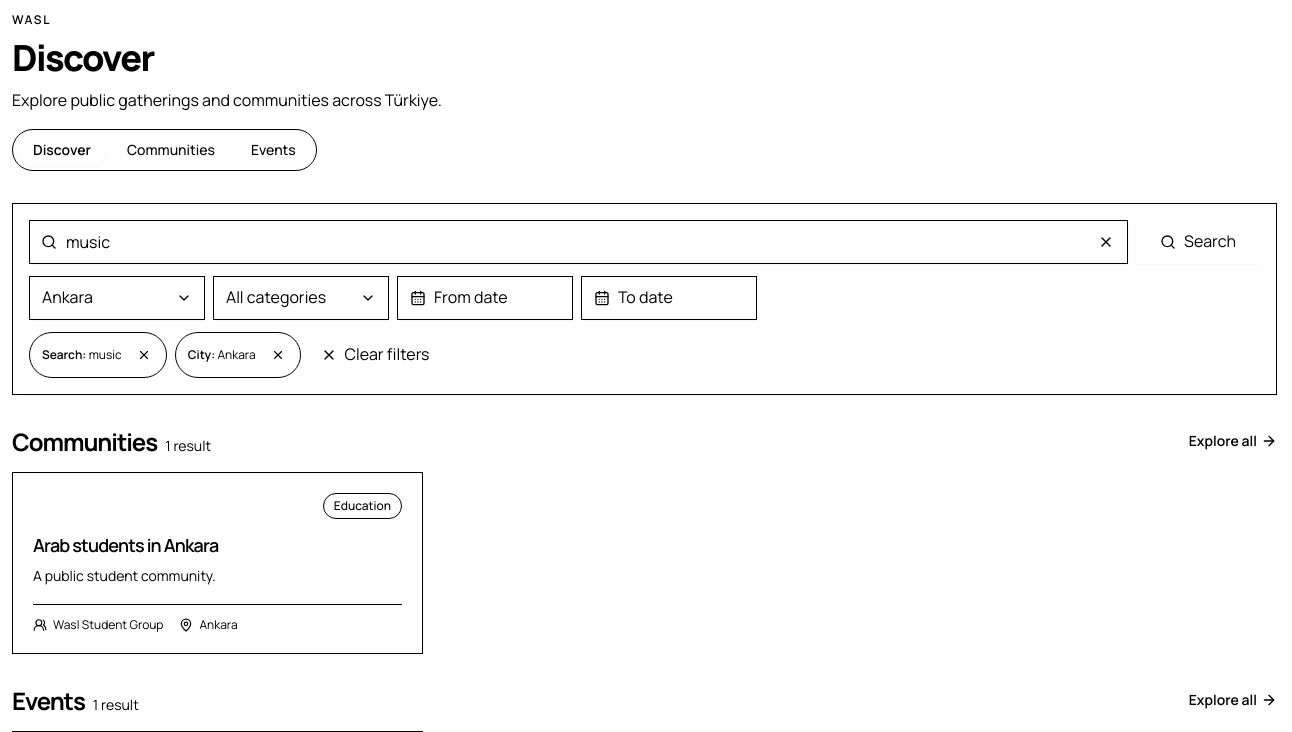
DiscoveryPage › exposes active filters as removable chips and clears them
Expected: the button named "Remove filter City: Ankara" is shown, [260,337,296,373]
Click the button named "Remove filter Search: music": x=144, y=355 [126,337,162,373]
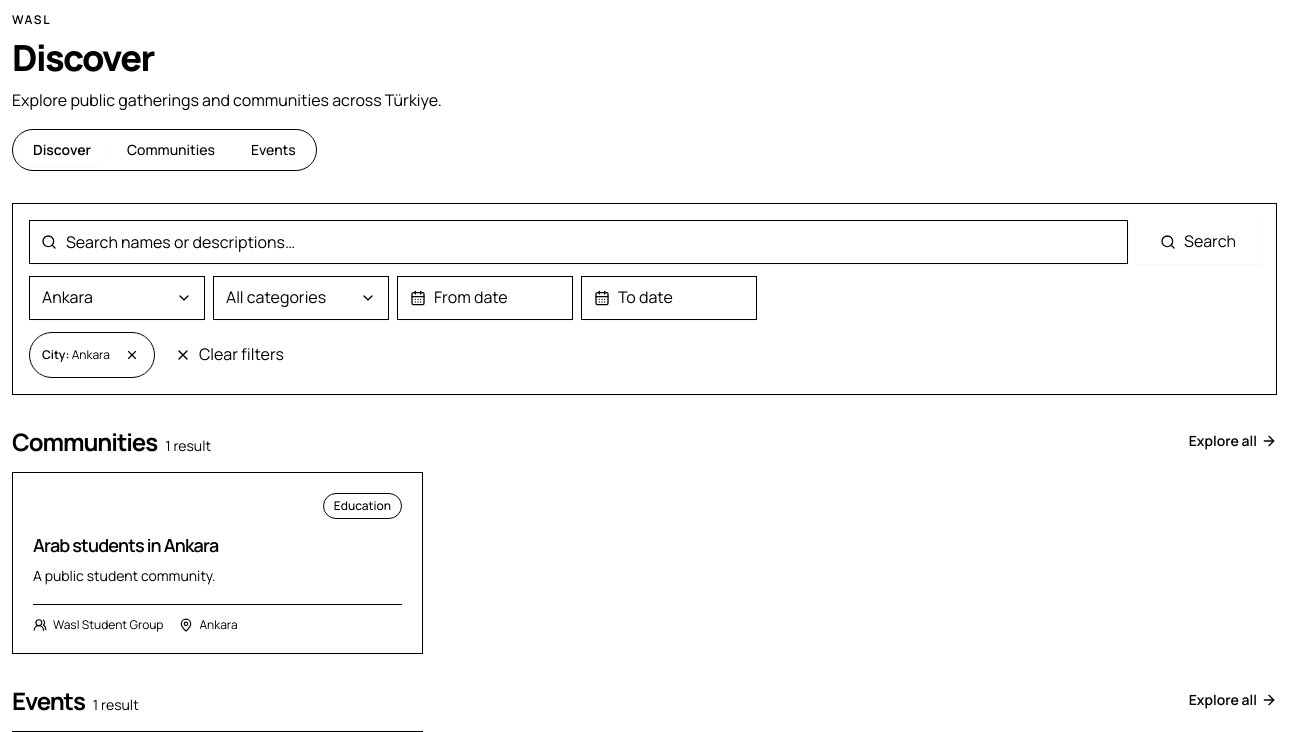
Result: the search field labelled "Search" is empty at [29,220,1128,264]
Click the button "Clear filters": x=229, y=355 [163,333,296,377]
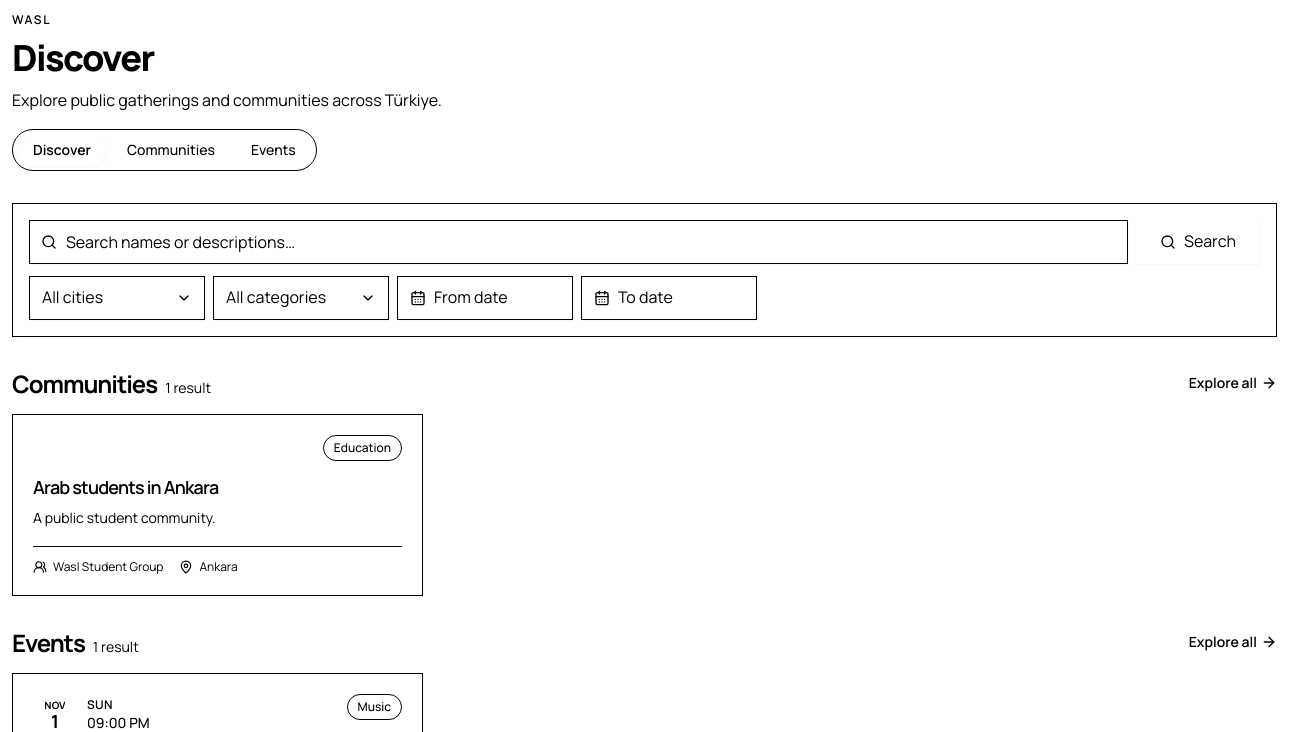
Result: the dropdown labelled "All cities" is shown at [29,276,205,320]
